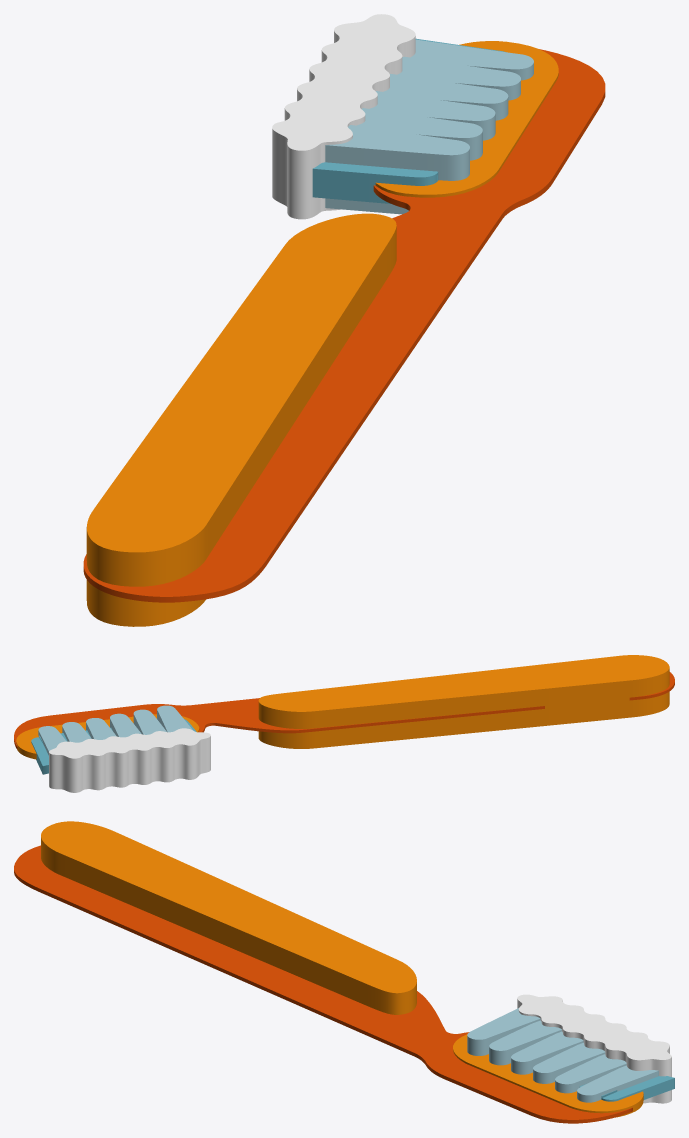
Rendered from emoji_u1faa5.glb.
The picture shows the model from 3 angles, top to bottom: view 1: azimuth 30°, elevation 25°; view 2: azimuth 150°, elevation 25°; view 3: azimuth 270°, elevation 25°; orthographic projection. The views are drawn at different scales.
Parts seen in each view (by area): view 1: emoji_u1faa5; view 2: emoji_u1faa5; view 3: emoji_u1faa5.
Boxes of the visible parts, box(x1,y1,x2,y2) form: emoji_u1faa5: box(83, 14, 605, 626); emoji_u1faa5: box(14, 655, 674, 792); emoji_u1faa5: box(14, 821, 674, 1123).
Size of the model in its own units: 0.0329 by 0.0026 by 0.0331.
